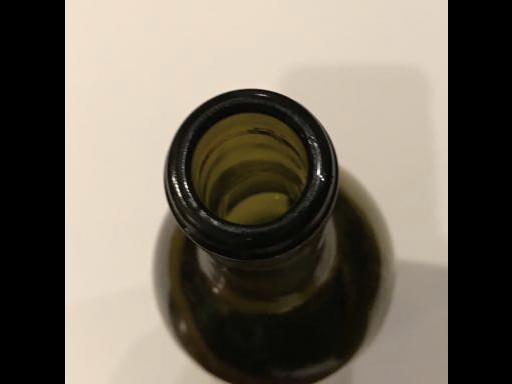glass: (149, 88, 392, 384)
sodocalcique: (149, 88, 392, 384)
